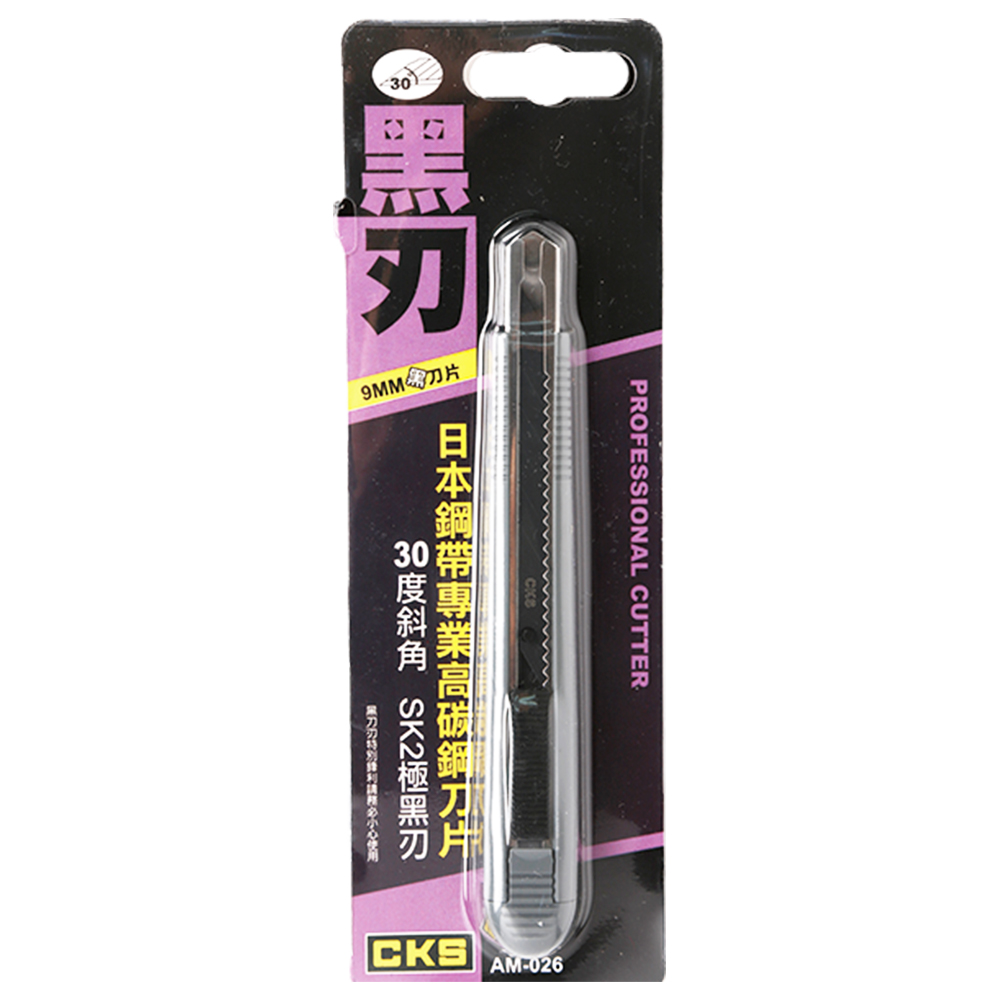cutter: (481, 225, 588, 956)
